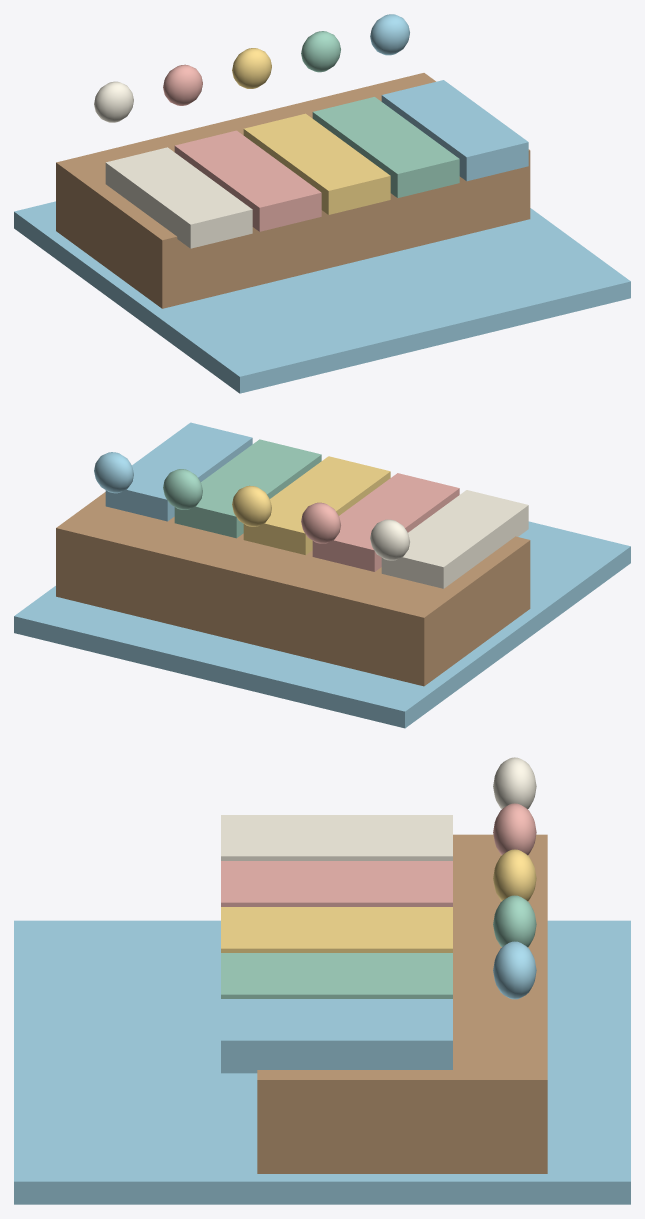
File: pet-piano.glb
3 views of the same model, one above another, from view 1: azimuth 30°, elevation 25°; view 2: azimuth 150°, elevation 25°; view 3: azimuth 270°, elevation 25° (orthographic). The views are drawn at different scales.
Visible parts, largest first — view 1: piano mat, piano case, big colourful key.001, big colourful key.002, big colourful key.003, big colourful key, big colourful key.004, note light.001, note light.003, note light.002, note light.004; view 2: piano case, piano mat, big colourful key.001, big colourful key.002, big colourful key.003, big colourful key, big colourful key.004, note light.001, note light.003, note light.002, note light.004; view 3: piano mat, piano case, big colourful key, big colourful key.001, big colourful key.002, big colourful key.003, big colourful key.004, note light.001, note light.002, note light.003, note light.004.
Part boxes in pixels (x1=…): piano mat: x1=14, y1=14, x2=630, y2=393; piano case: x1=56, y1=73, x2=530, y2=308; big colourful key.001: x1=105, y1=147, x2=252, y2=248; big colourful key.002: x1=174, y1=130, x2=321, y2=231; big colourful key.003: x1=243, y1=113, x2=390, y2=214; big colourful key: x1=381, y1=80, x2=528, y2=181; big colourful key.004: x1=312, y1=97, x2=459, y2=197; note light.001: x1=94, y1=81, x2=133, y2=122; note light.003: x1=232, y1=48, x2=271, y2=88; note light.002: x1=163, y1=64, x2=202, y2=105; note light.004: x1=301, y1=31, x2=340, y2=72; piano case: x1=56, y1=492, x2=530, y2=686; piano mat: x1=14, y1=452, x2=630, y2=728; big colourful key.001: x1=381, y1=490, x2=528, y2=588; big colourful key.002: x1=312, y1=473, x2=459, y2=571; big colourful key.003: x1=243, y1=456, x2=390, y2=555; big colourful key: x1=105, y1=422, x2=252, y2=521; big colourful key.004: x1=174, y1=439, x2=321, y2=538; note light.001: x1=370, y1=519, x2=409, y2=560; note light.003: x1=232, y1=485, x2=271, y2=526; note light.002: x1=301, y1=502, x2=340, y2=543; note light.004: x1=163, y1=469, x2=202, y2=509; piano mat: x1=14, y1=920, x2=630, y2=1204; piano case: x1=257, y1=834, x2=547, y2=1173; big colourful key: x1=221, y1=999, x2=452, y2=1073; big colourful key.001: x1=221, y1=815, x2=452, y2=860; big colourful key.002: x1=221, y1=861, x2=452, y2=906; big colourful key.003: x1=221, y1=907, x2=452, y2=952; big colourful key.004: x1=221, y1=953, x2=452, y2=998; note light.001: x1=493, y1=757, x2=536, y2=809; note light.002: x1=493, y1=803, x2=536, y2=855; note light.003: x1=493, y1=849, x2=536, y2=901; note light.004: x1=493, y1=895, x2=536, y2=947.
Bounding box in the file's own units: 1.7 × 0.675 × 1.7.
